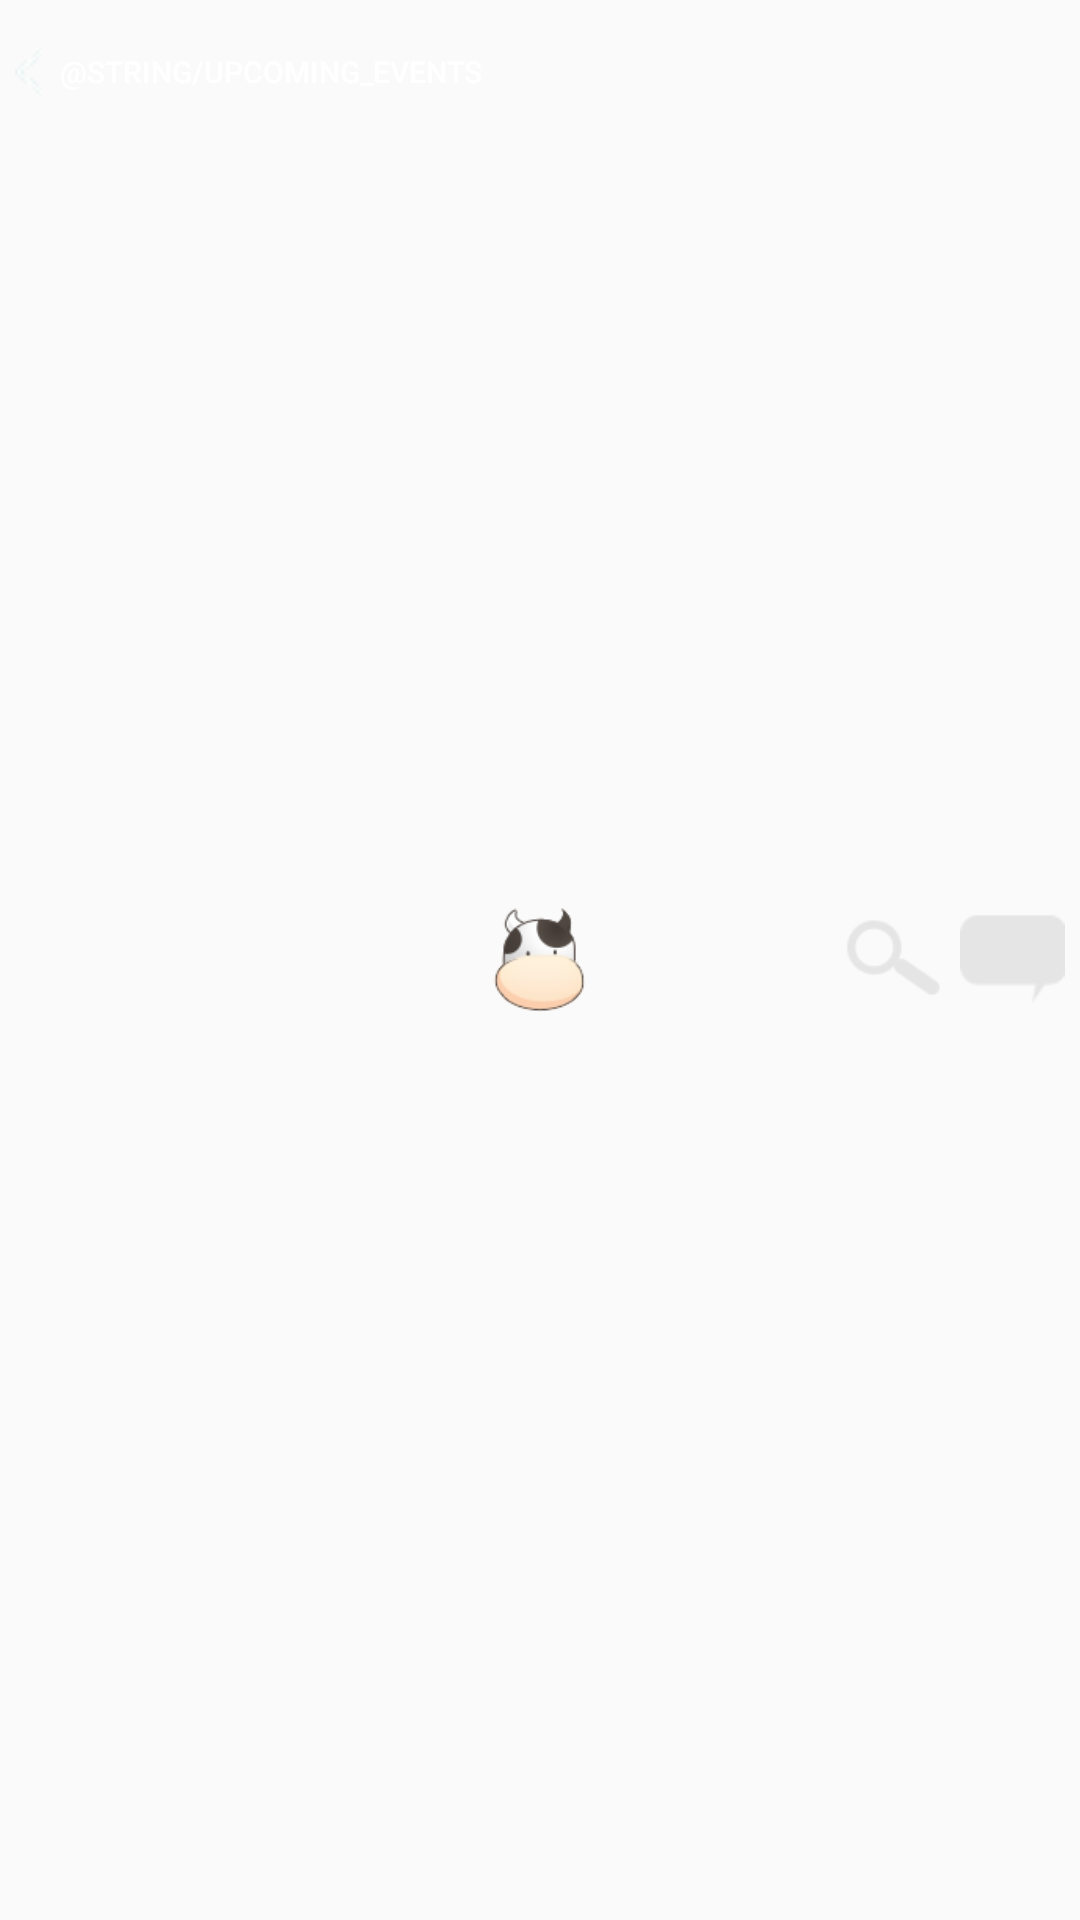

Icons on this 1080*1920 Android screen, each with its box as bbox(x1, y1, x2, y2):
cowhead: bbox(494, 908, 584, 1011)
